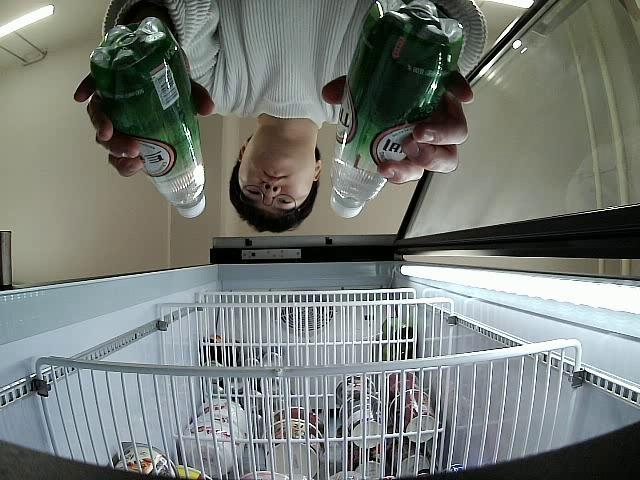18_trevi: (330, 0, 466, 218), (90, 16, 207, 220)
